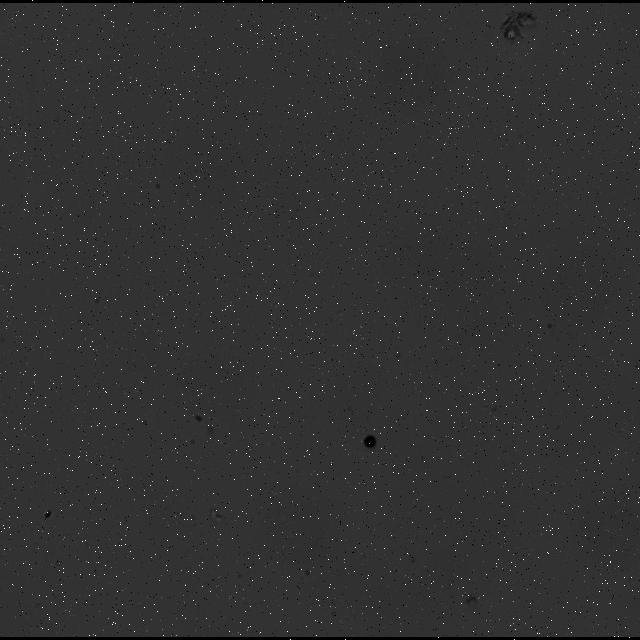microbeads: (357, 431, 378, 452)
